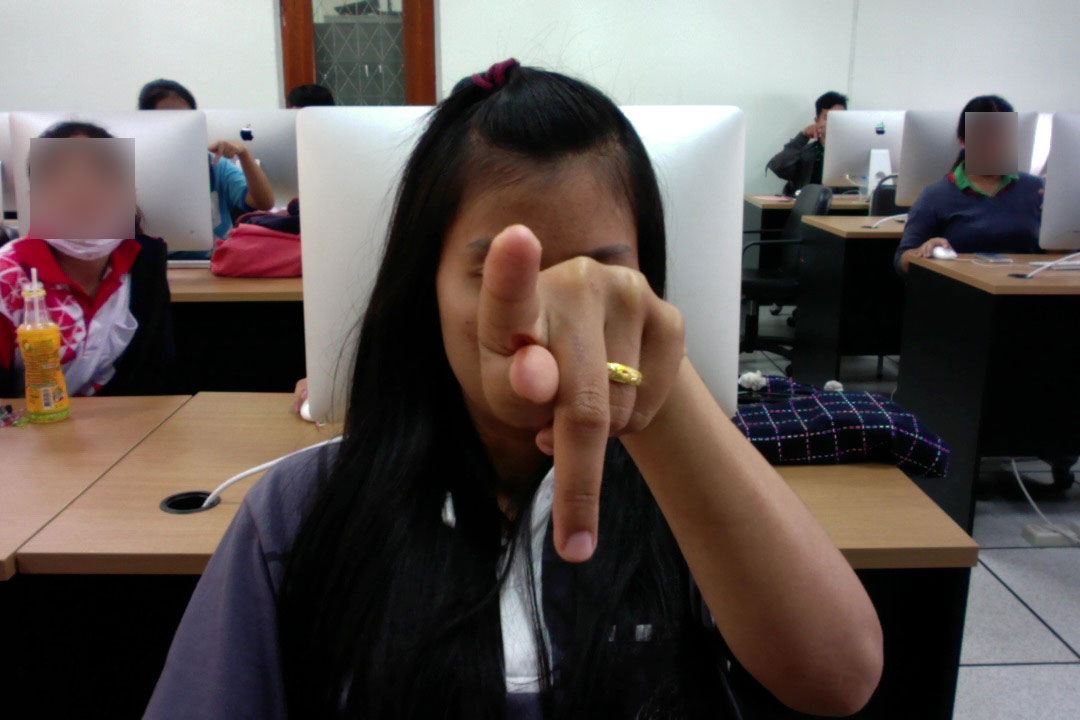por: (473, 213, 692, 564)
